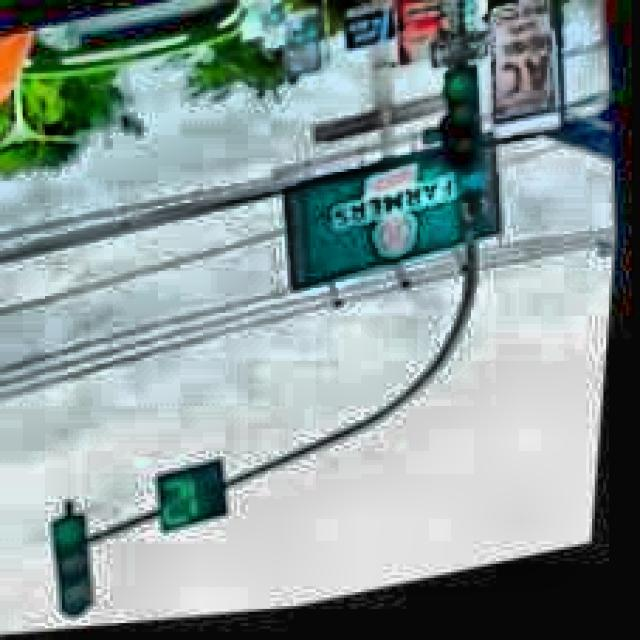green: (436, 70, 494, 189), (51, 512, 113, 622)
